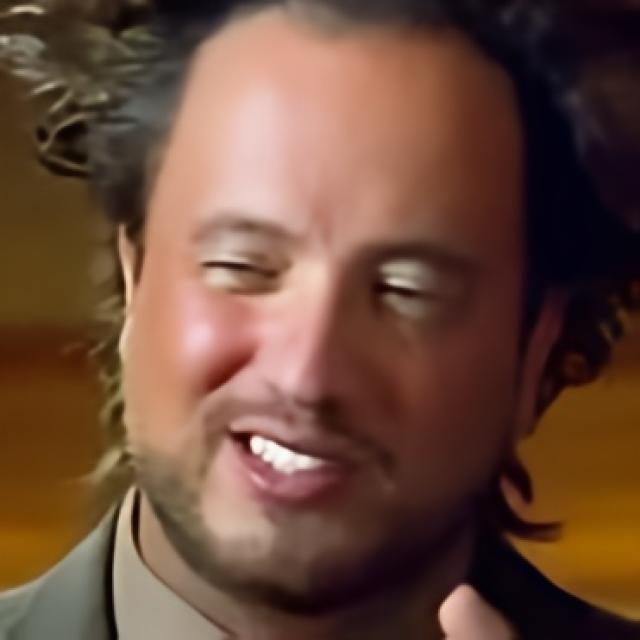content: (131, 0, 531, 619)
